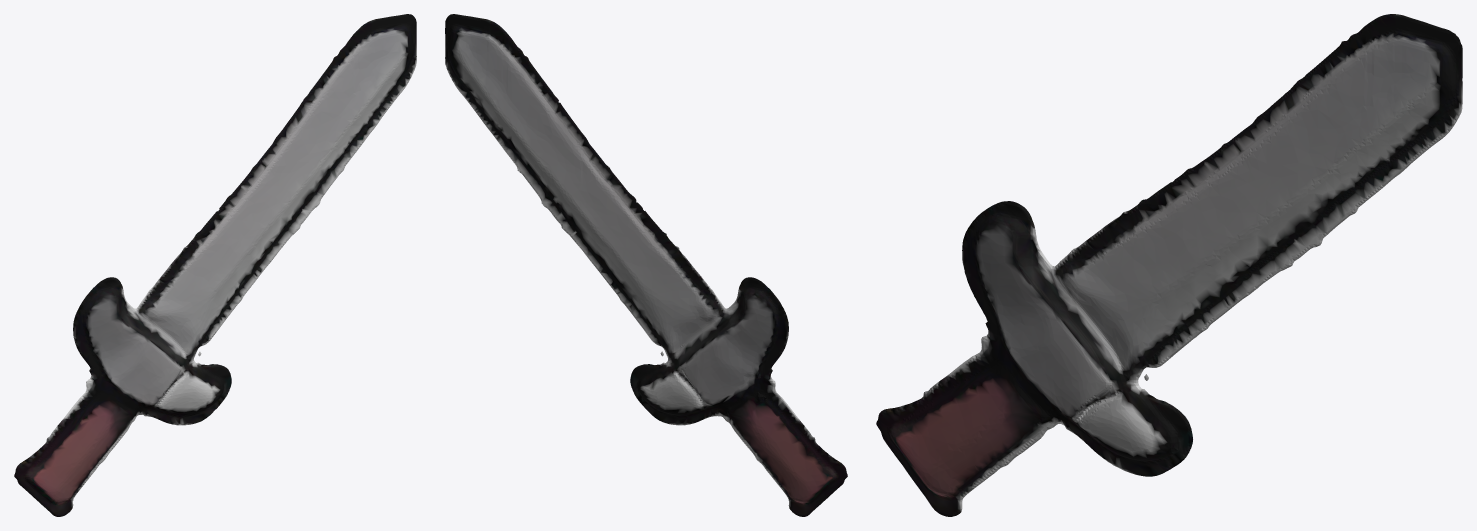
The model's file is ssword_2.glb.
The picture shows the model from 3 angles, left to right: view 1: azimuth 30°, elevation 25°; view 2: azimuth 150°, elevation 25°; view 3: azimuth 330°, elevation 25°; orthographic projection. The views are drawn at different scales.
Visible parts, largest first — view 1: geometry_0; view 2: geometry_0; view 3: geometry_0.
Part boxes in pixels (box(x1,y1,x2,y2)): geometry_0: box(14, 14, 416, 516); geometry_0: box(445, 14, 847, 516); geometry_0: box(876, 14, 1462, 516).
Bounding box in the file's own units: 0.75 × 0.7491 × 0.0303.
